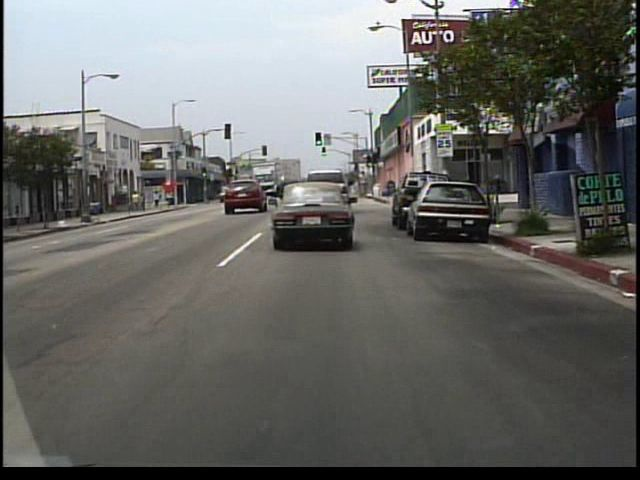person: (132, 190, 141, 213), (154, 189, 162, 209), (142, 192, 148, 212)
